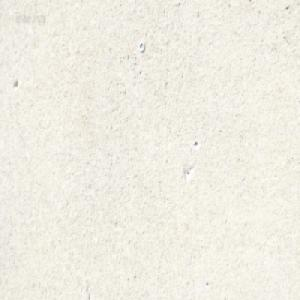Washer: (138, 41, 145, 52)
